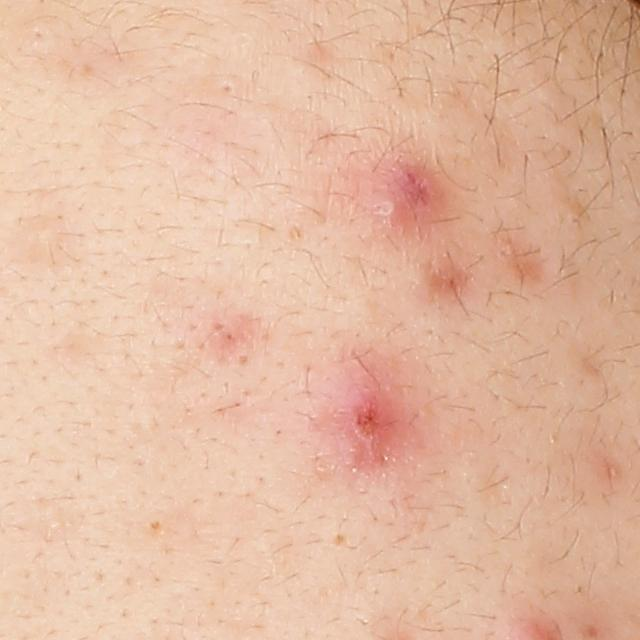comedo: (139, 512, 166, 538), (218, 73, 239, 95)
papule: (316, 373, 409, 467), (355, 160, 439, 238)
